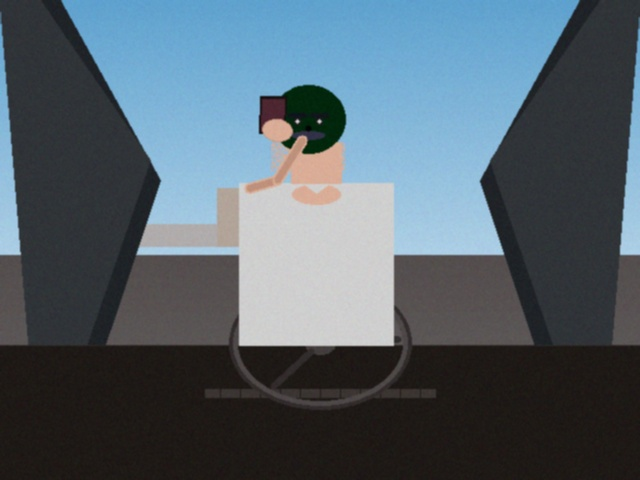phone_usage: (252, 88, 294, 141)
